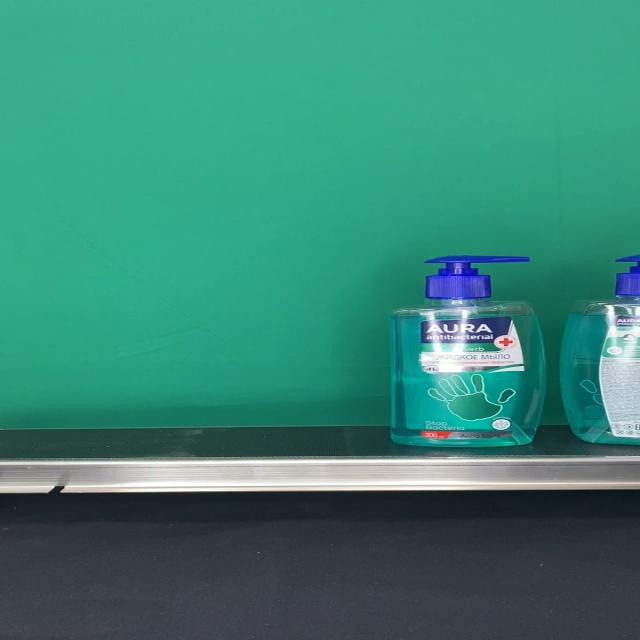Bottle: (390, 255, 547, 448)
Cap: (423, 255, 532, 299)
